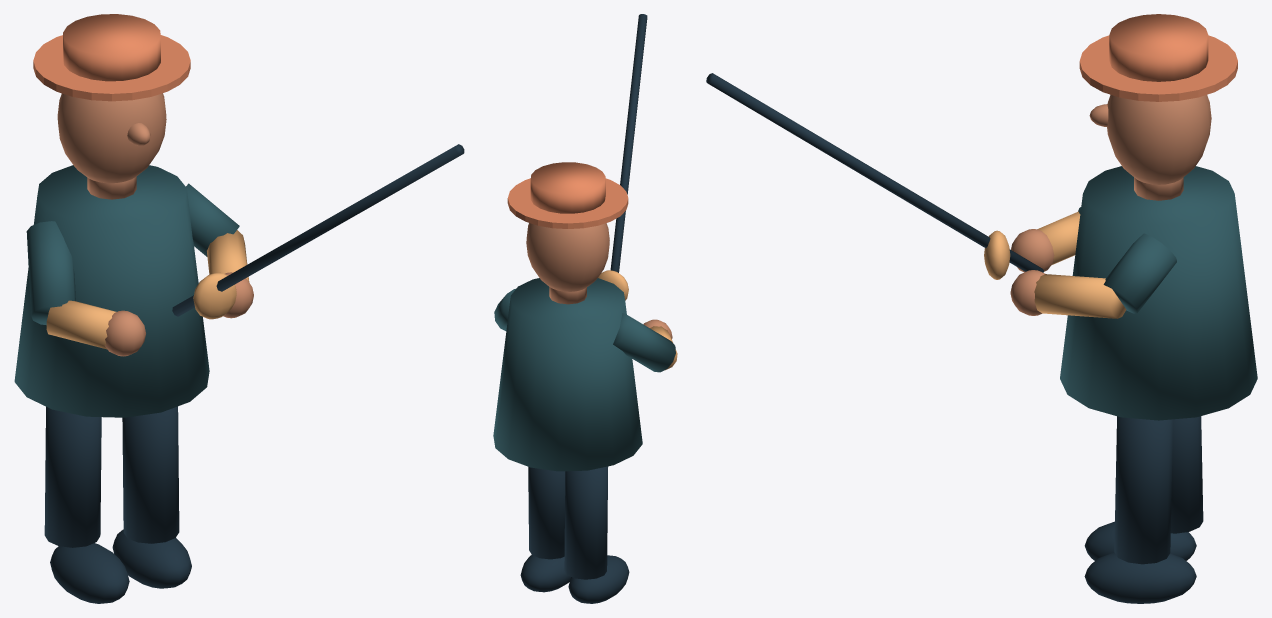
Rendered from fisherman.glb.
3 views of the same model, side by side, from view 1: azimuth 30°, elevation 25°; view 2: azimuth 150°, elevation 25°; view 3: azimuth 270°, elevation 25° (orthographic). The views are drawn at different scales.
Parts seen in each view (by area): view 1: Fisherman_Torso, Fisherman_Leg_L, Fisherman_Head, Fisherman_Leg_R, Fisherman_Hat_Crown, Fisherman_Hat_Brim, Fisherman_UpperArm_L, Fisherman_Boot_L, Fisherman_Rod, Fisherman_Boot_R, Fisherman_Forearm_L, Fisherman_UpperArm_R (+5 smaller); view 2: Fisherman_Torso, Fisherman_Leg_L, Fisherman_Head, Fisherman_Hat_Crown, Fisherman_Leg_R, Fisherman_Hat_Brim, Fisherman_Rod, Fisherman_UpperArm_L, Fisherman_Boot_L, Fisherman_Boot_R, Fisherman_Neck, Fisherman_UpperArm_R (+1 smaller); view 3: Fisherman_Torso, Fisherman_Leg_R, Fisherman_Head, Fisherman_Hat_Crown, Fisherman_Hat_Brim, Fisherman_Rod, Fisherman_Boot_R, Fisherman_Leg_L, Fisherman_Forearm_R, Fisherman_UpperArm_R, Fisherman_Boot_L, Fisherman_Forearm_L (+4 smaller).
Boxes of the visible parts, bbox=[...] form: Fisherman_Torso: bbox=[14, 165, 209, 417]; Fisherman_Leg_L: bbox=[44, 406, 101, 547]; Fisherman_Head: bbox=[57, 93, 166, 183]; Fisherman_Leg_R: bbox=[122, 406, 179, 543]; Fisherman_Hat_Crown: bbox=[63, 14, 160, 81]; Fisherman_Hat_Brim: bbox=[33, 35, 190, 101]; Fisherman_UpperArm_L: bbox=[26, 221, 75, 325]; Fisherman_Boot_L: bbox=[50, 543, 129, 603]; Fisherman_Rod: bbox=[172, 144, 464, 316]; Fisherman_Boot_R: bbox=[112, 529, 191, 588]; Fisherman_Forearm_L: bbox=[46, 300, 116, 349]; Fisherman_UpperArm_R: bbox=[186, 183, 239, 256]; Fisherman_Torso: bbox=[493, 278, 642, 471]; Fisherman_Leg_L: bbox=[564, 466, 608, 579]; Fisherman_Head: bbox=[526, 223, 609, 291]; Fisherman_Hat_Crown: bbox=[530, 162, 605, 213]; Fisherman_Leg_R: bbox=[528, 467, 565, 559]; Fisherman_Hat_Brim: bbox=[507, 178, 628, 228]; Fisherman_Rod: bbox=[610, 14, 647, 272]; Fisherman_UpperArm_L: bbox=[613, 313, 675, 372]; Fisherman_Boot_L: bbox=[568, 555, 629, 603]; Fisherman_Boot_R: bbox=[520, 555, 570, 592]; Fisherman_Neck: bbox=[549, 287, 586, 304]; Fisherman_UpperArm_R: bbox=[494, 289, 515, 330]; Fisherman_Torso: bbox=[1060, 166, 1257, 420]; Fisherman_Leg_R: bbox=[1114, 416, 1172, 564]; Fisherman_Head: bbox=[1107, 94, 1211, 184]; Fisherman_Hat_Crown: bbox=[1109, 14, 1208, 81]; Fisherman_Hat_Brim: bbox=[1079, 35, 1237, 101]; Fisherman_Rod: bbox=[706, 73, 1043, 272]; Fisherman_Boot_R: bbox=[1084, 552, 1196, 603]; Fisherman_Leg_L: bbox=[1170, 416, 1203, 533]; Fisherman_Forearm_R: bbox=[1034, 274, 1126, 318]; Fisherman_UpperArm_R: bbox=[1103, 233, 1176, 313]; Fisherman_Boot_L: bbox=[1084, 521, 1196, 560]; Fisherman_Forearm_L: bbox=[1037, 211, 1080, 265].
Bounding box in the file's own units: 0.8406 × 1.91 × 1.67.
